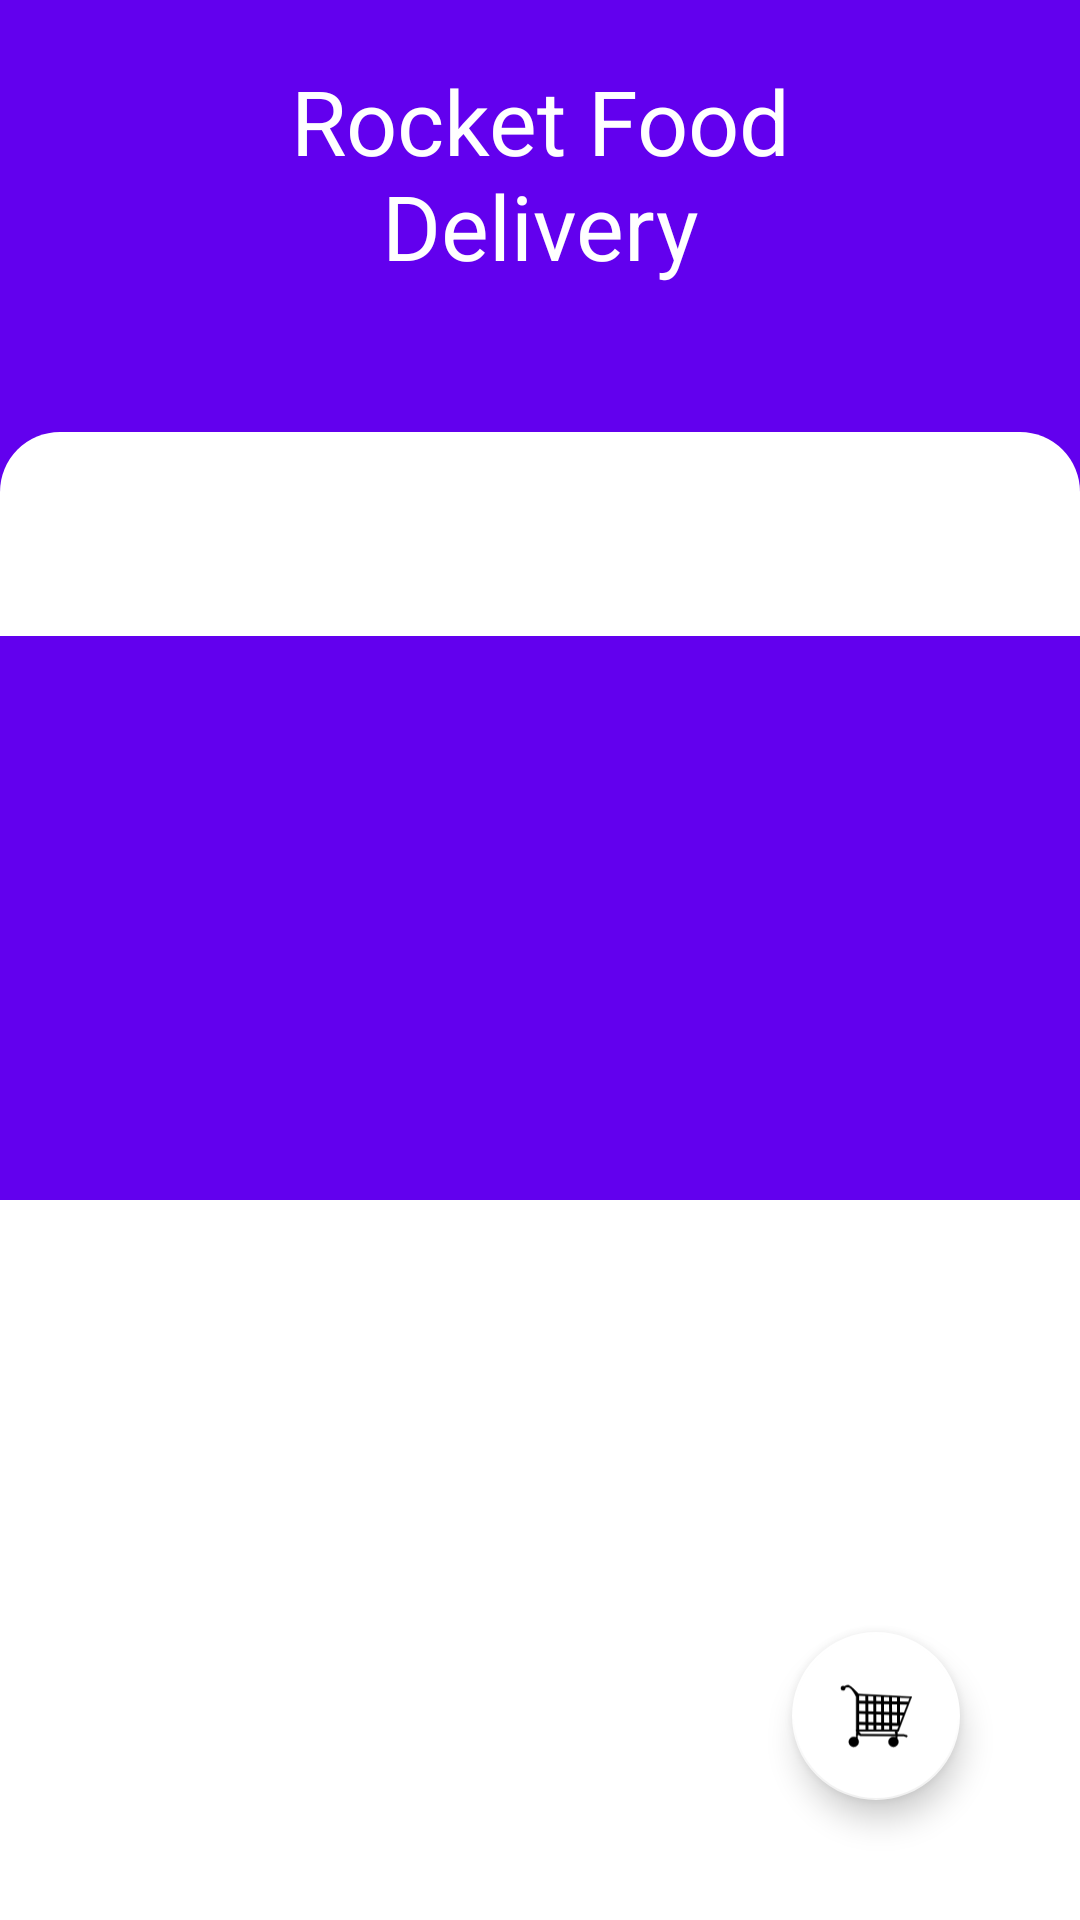

Screen size 1080px×1920px. Icon name, then its box in pixels as Rect(x1, y1, x2, y2):
shoppingcart: Rect(796, 1684, 912, 1748)
